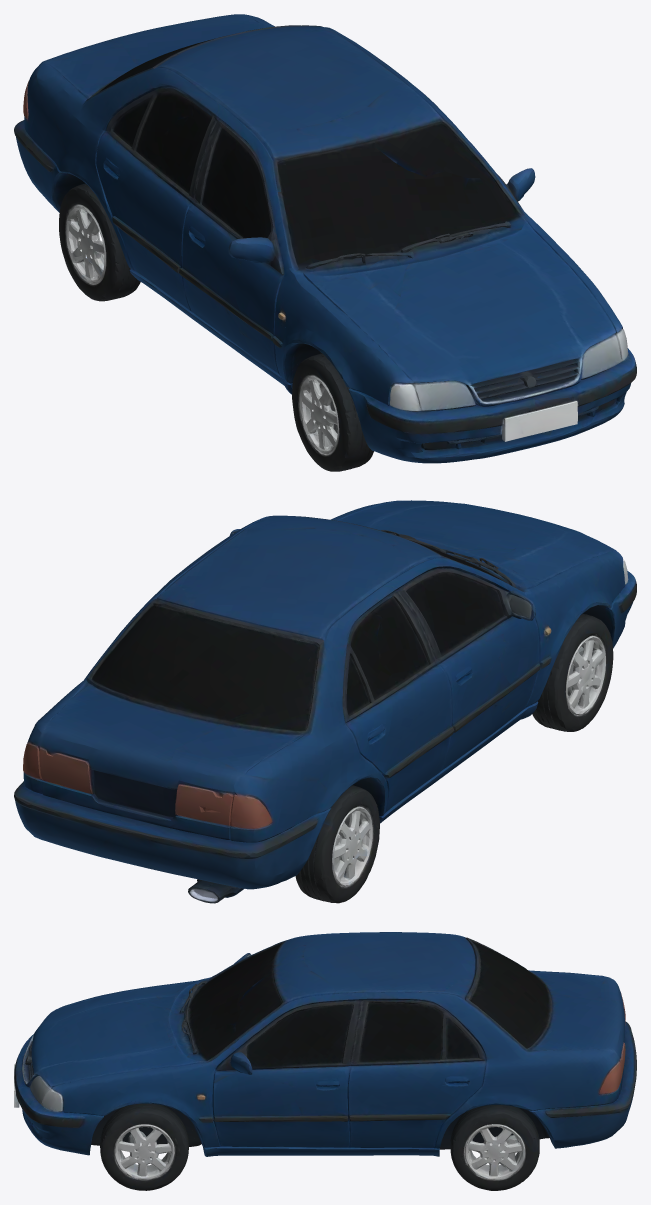
Rendered from fw_veh_sedan_meridian_lod0.glb.
3 renders of one model, top to bottom at view 1: azimuth 30°, elevation 25°; view 2: azimuth 150°, elevation 25°; view 3: azimuth 270°, elevation 25°, orthographic. The views are drawn at different scales.
Visible parts, largest first — view 1: body, wheel_rf, wheel_rr; view 2: body, wheel_rr, wheel_rf; view 3: body, wheel_lr, wheel_lf.
Part boxes in pixels (box(x1,y1,x2,y2)): body: box(14, 14, 636, 463); wheel_rf: box(288, 339, 373, 471); wheel_rr: box(57, 169, 140, 301); body: box(14, 500, 636, 903); wheel_rr: box(295, 771, 384, 903); wheel_rf: box(532, 600, 615, 731); body: box(14, 932, 636, 1156); wheel_lr: box(443, 1102, 547, 1190); wheel_lf: box(91, 1099, 195, 1190).
Bounding box in the file's own units: 1.94 × 1.5 × 4.55.
1 material, 1 textured.
